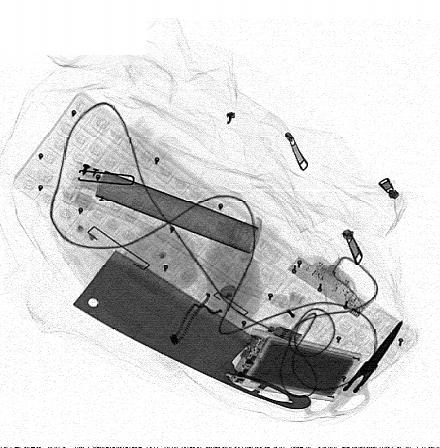Knife: (71, 247, 311, 410)
Powerbank: (227, 329, 360, 404)
Scissors: (302, 320, 403, 417)
